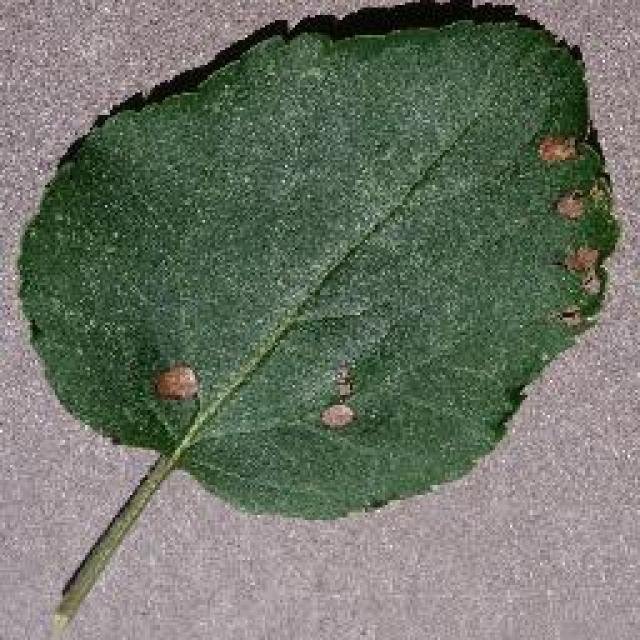Black_rot: (15, 0, 620, 638)
